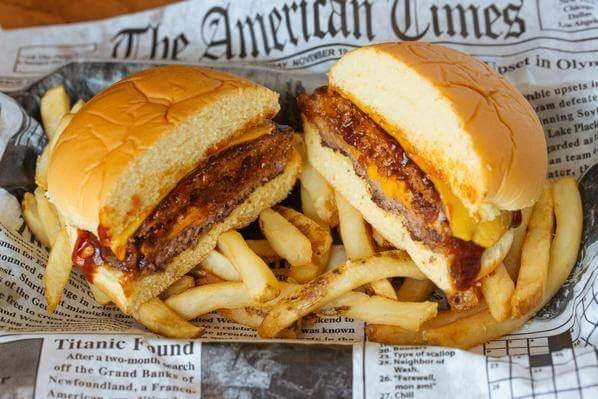soup: (24, 65, 304, 340), (296, 41, 550, 309)
